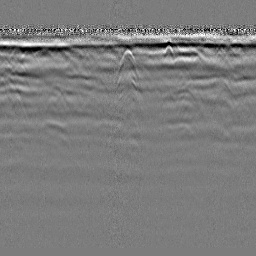cavity: (115, 48, 142, 79)
